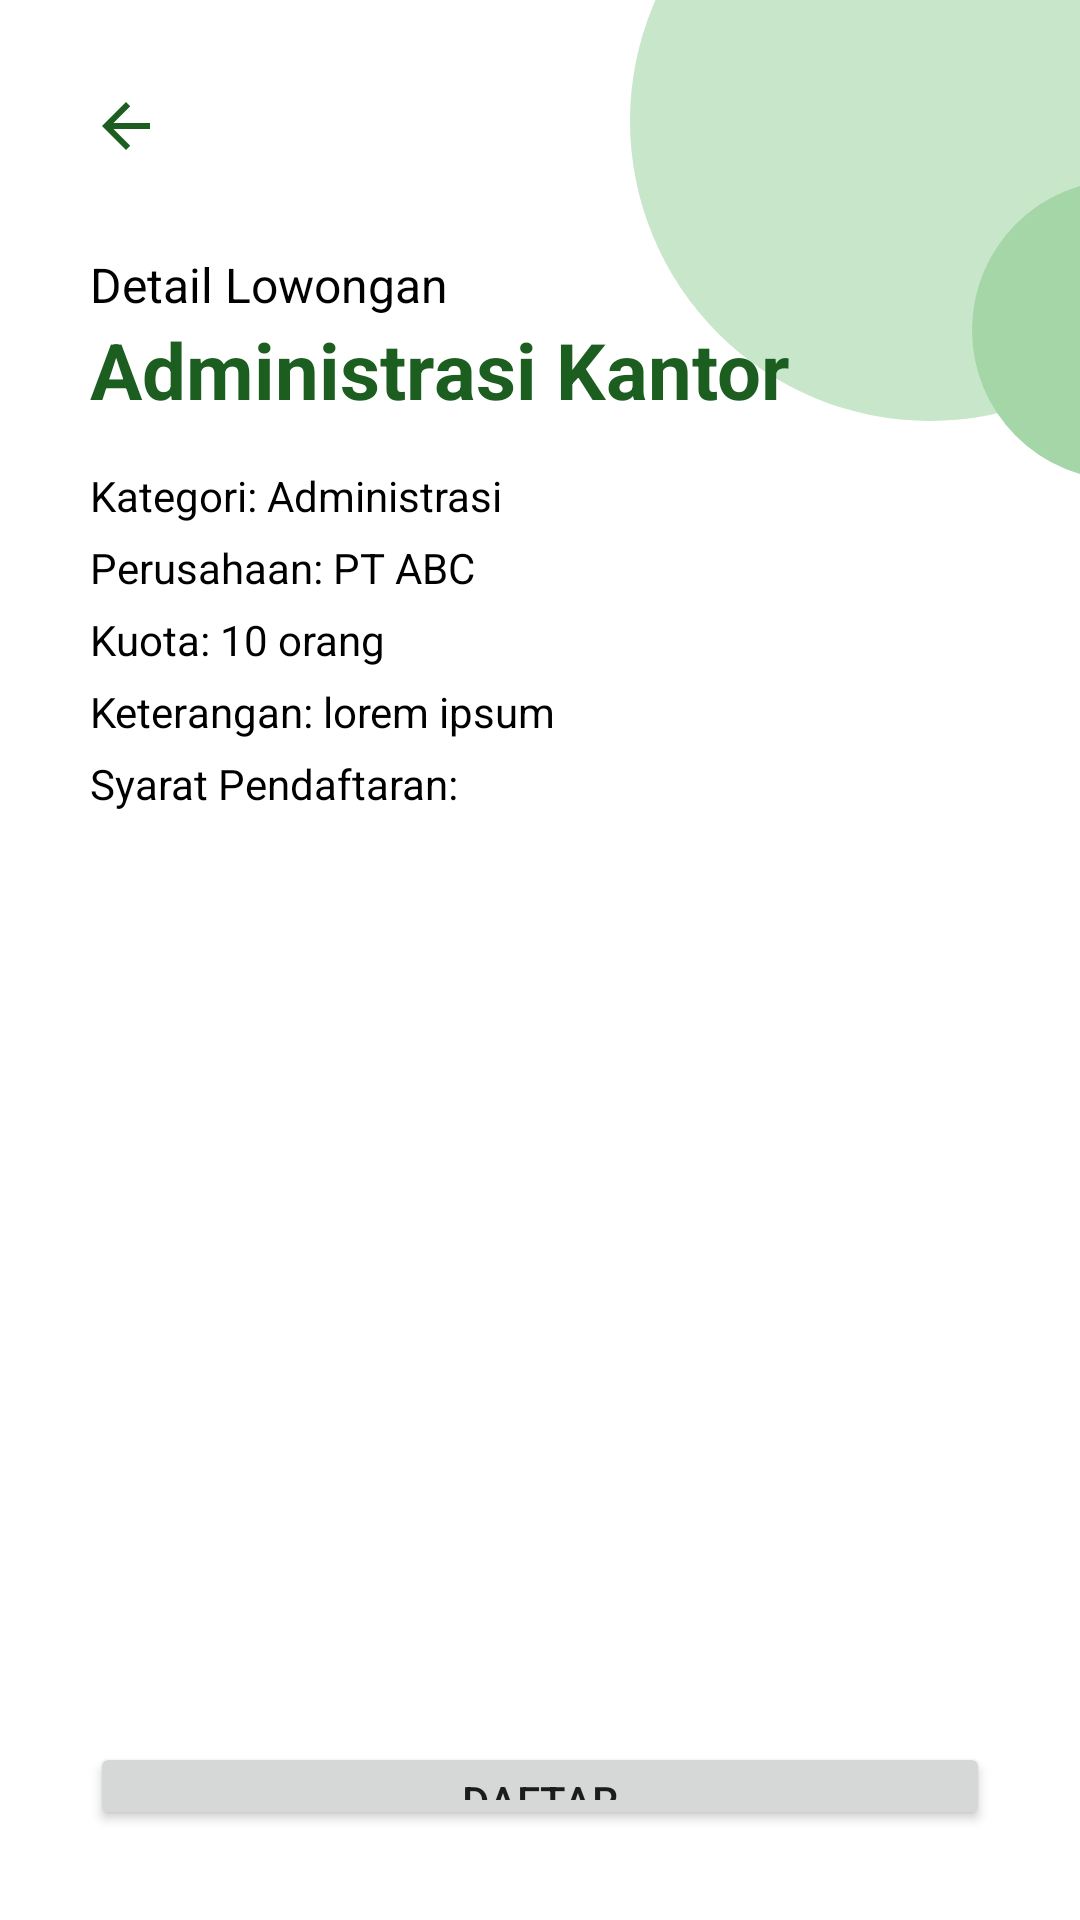

Named icons in this screenshot (1080 x 1920) and their bounding boxes, {"x1": x1, "y1": y1, "x2": x2, "y2": y2}:
arrow back: {"x1": 102, "y1": 102, "x2": 150, "y2": 150}
